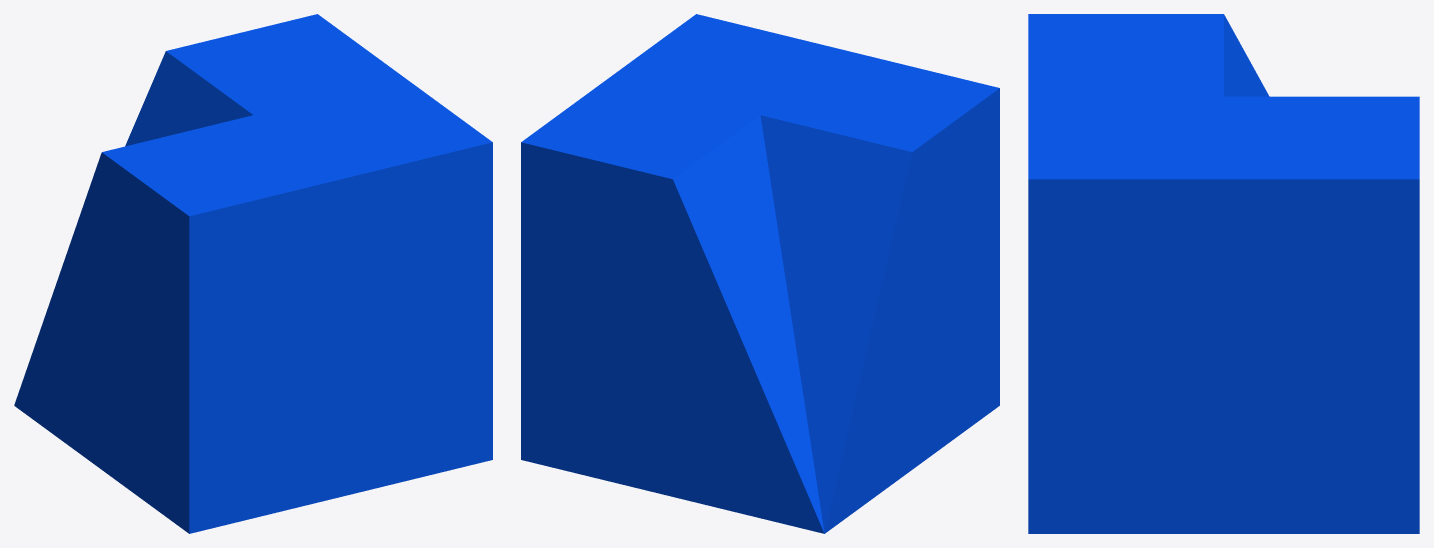
File: COL_Barrier-Outdoor-4x4x4-Rocks-Slope-Corner-Concave.FBX
The picture shows the model from 3 angles, left to right: view 1: azimuth 30°, elevation 25°; view 2: azimuth 150°, elevation 25°; view 3: azimuth 270°, elevation 25°; orthographic projection. The views are drawn at different scales.
Visible parts, largest first — view 1: COL_Barrier-Outdoor-4x4x4-Rocks-Slope-Corner-Concave; view 2: COL_Barrier-Outdoor-4x4x4-Rocks-Slope-Corner-Concave; view 3: COL_Barrier-Outdoor-4x4x4-Rocks-Slope-Corner-Concave.
Part boxes in pixels (x1=…): COL_Barrier-Outdoor-4x4x4-Rocks-Slope-Corner-Concave: x1=14, y1=14, x2=492, y2=533; COL_Barrier-Outdoor-4x4x4-Rocks-Slope-Corner-Concave: x1=521, y1=14, x2=999, y2=533; COL_Barrier-Outdoor-4x4x4-Rocks-Slope-Corner-Concave: x1=1028, y1=14, x2=1419, y2=533.
Size of the model in its own units: 40 by 40 by 40.
